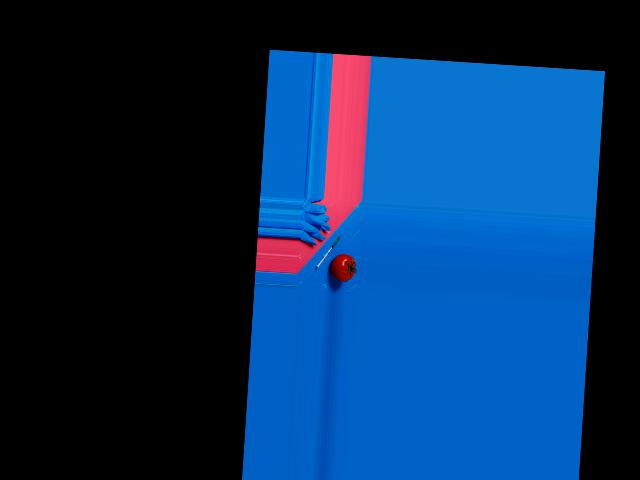tomato: (329, 253, 355, 281)
